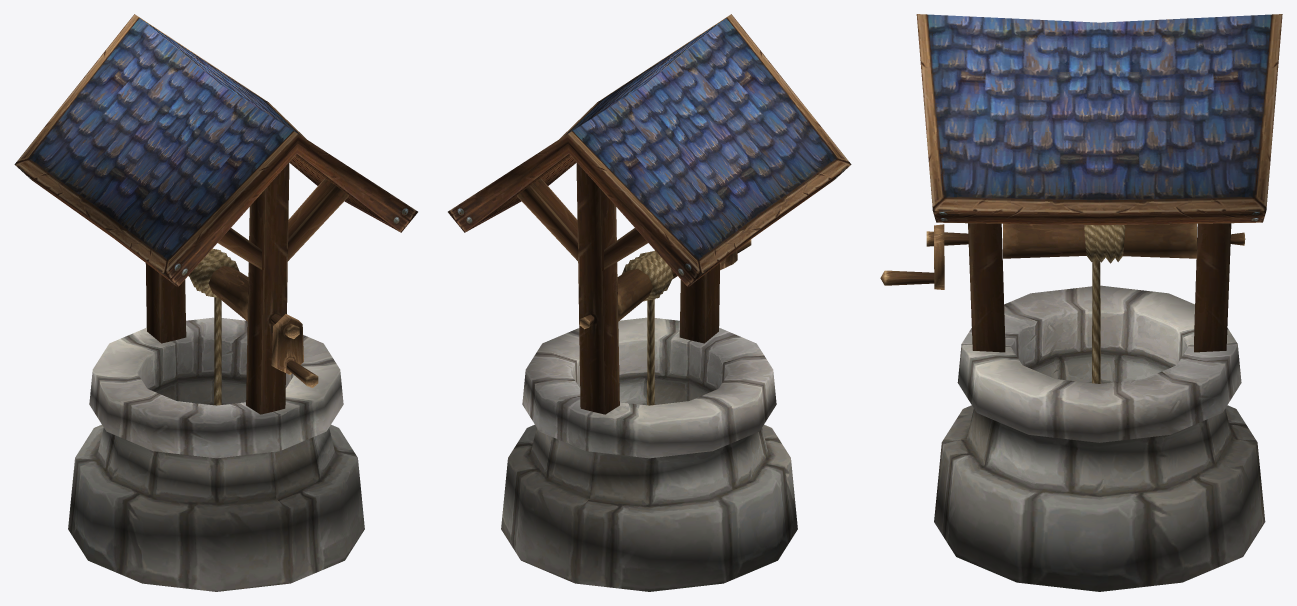
File: 6hu_garrison_farm_well.obj
3 renders of one model, left to right at view 1: azimuth 30°, elevation 25°; view 2: azimuth 150°, elevation 25°; view 3: azimuth 270°, elevation 25°, orthographic. The views are drawn at different scales.
Parts seen in each view (by area): view 1: 6HU_GARRISON_FARM_WELL0; view 2: 6HU_GARRISON_FARM_WELL0; view 3: 6HU_GARRISON_FARM_WELL0.
Boxes of the visible parts, x1,y1,x2,y2 form: 6HU_GARRISON_FARM_WELL0: (14,14,417,591); 6HU_GARRISON_FARM_WELL0: (448,14,851,591); 6HU_GARRISON_FARM_WELL0: (880,14,1282,591).
Bounding box in the file's own units: 2.38 × 4.02 × 2.89.
Materials: 1 (1 with a texture image).
